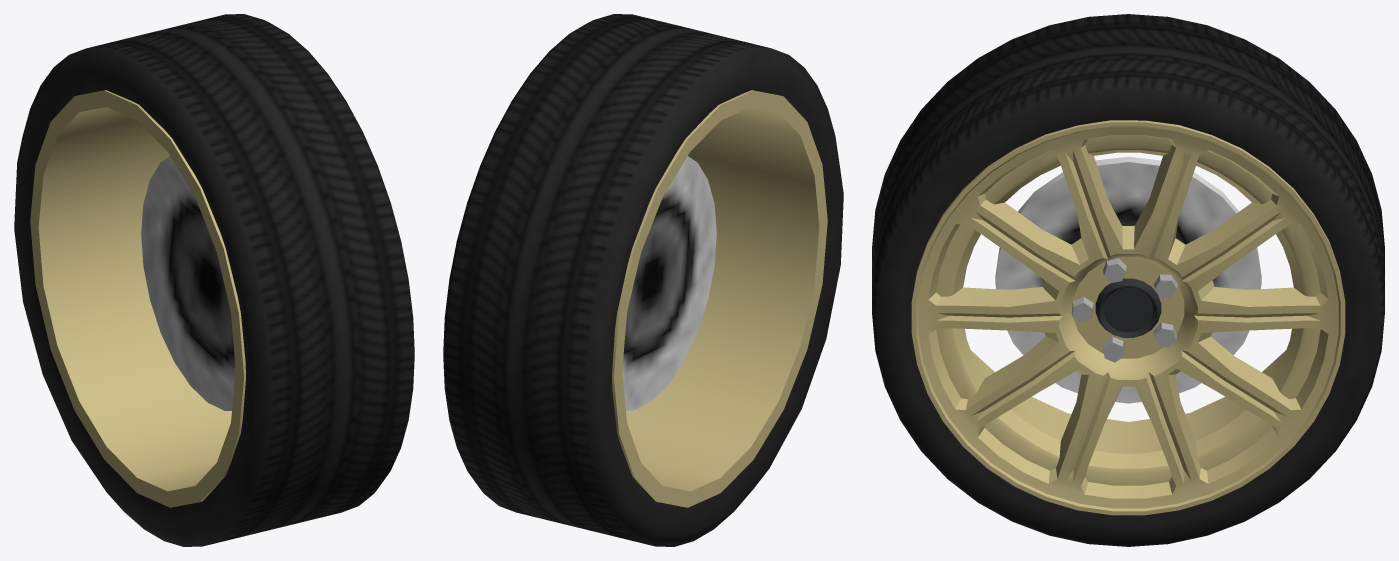
The model's file is wheel-right.gltf.
3 views of the same model, side by side, from view 1: azimuth 30°, elevation 25°; view 2: azimuth 150°, elevation 25°; view 3: azimuth 270°, elevation 25° (orthographic).
Bounding box in the file's own units: 0.2354 × 0.662 × 0.662.
Materials: 5 (2 with a texture image).
